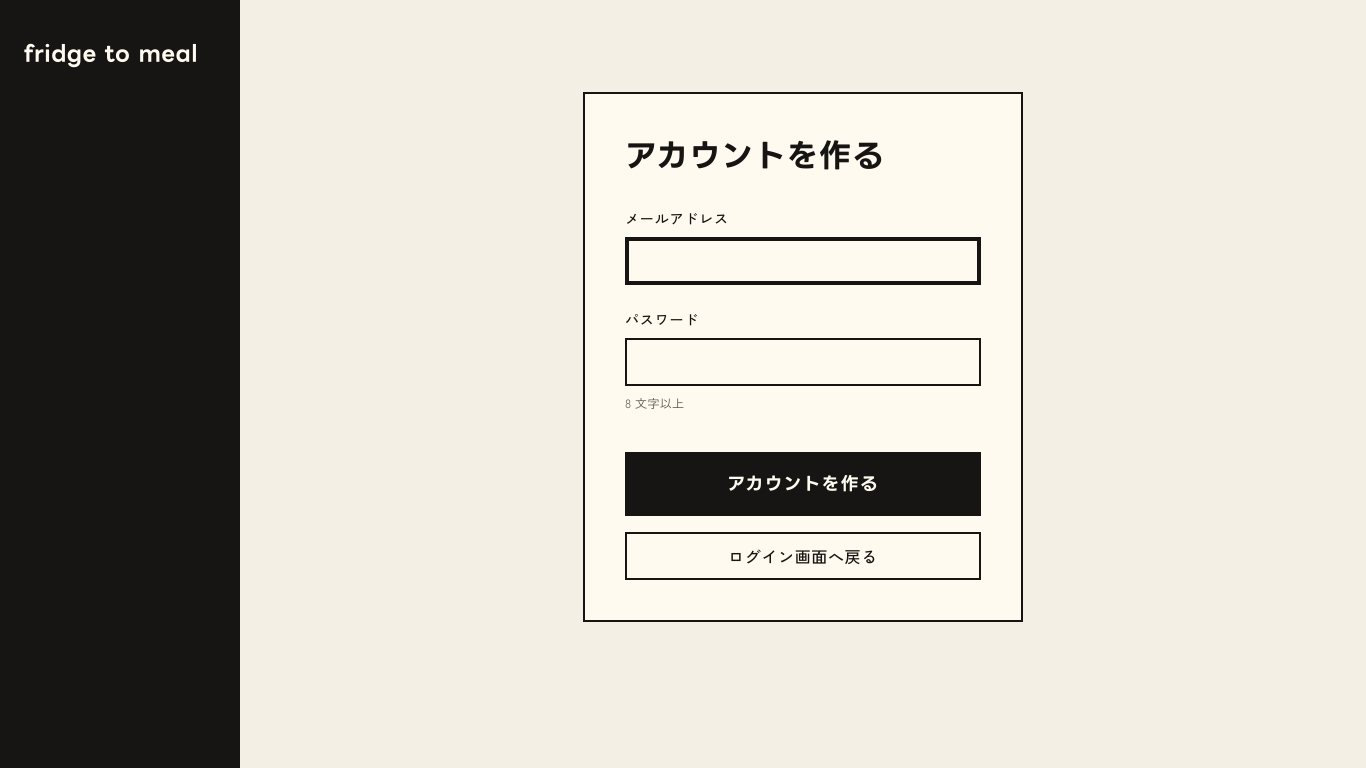
Test: アカウント作成の画面 SignUpForm の端末の戻る › 作成を受け付けた案内の画面でも、戻るとログインへ戻る口へ届く
Type "user@example.com" into the field labelled "メールアドレス".
click(803, 261); type("user@example.com")  # box [625, 237, 981, 285]
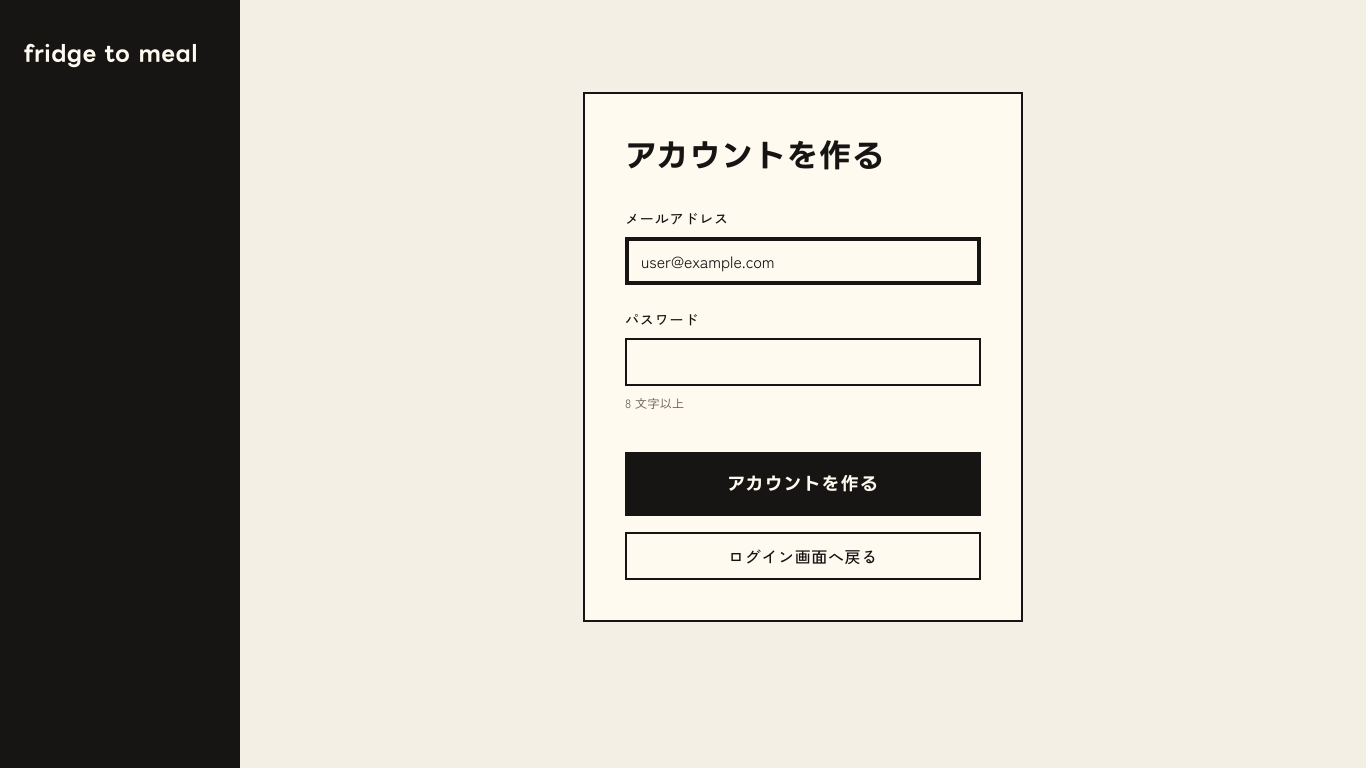
Type "correct-horse" into the password field labelled "パスワード".
click(803, 362); type("correct-horse")  # box [625, 338, 981, 386]
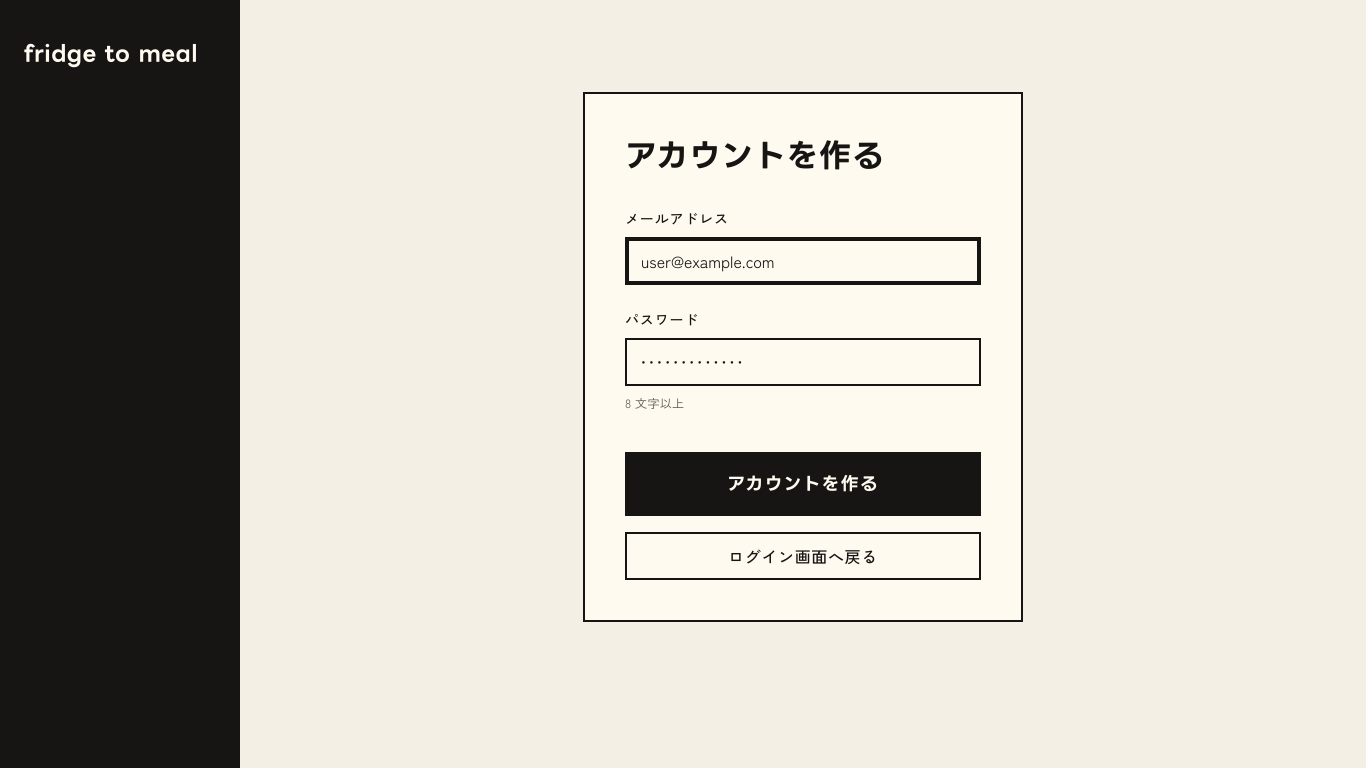
Click the button "アカウントを作る".
click(803, 484)  # box [625, 452, 981, 516]
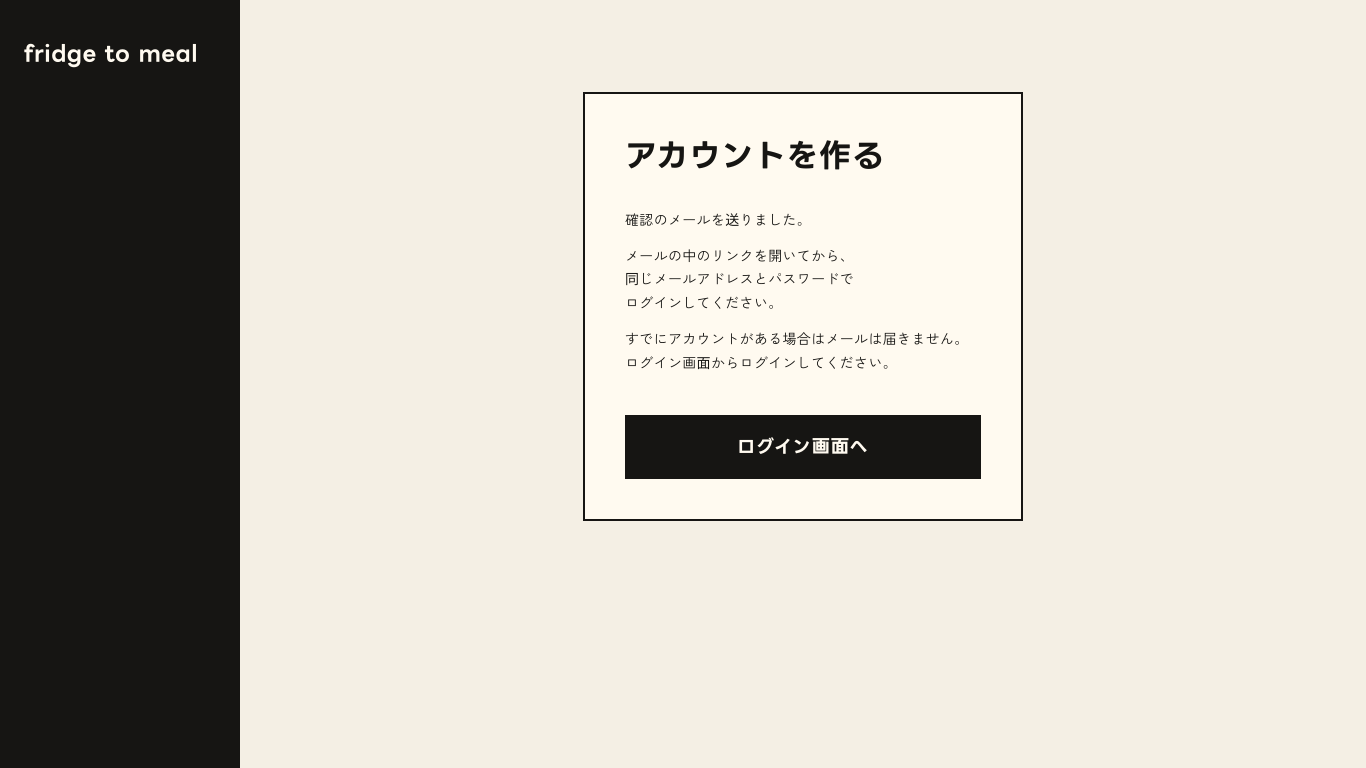
Expected: the text "確認のメールを送りました。" is shown, [625, 209, 811, 229]
